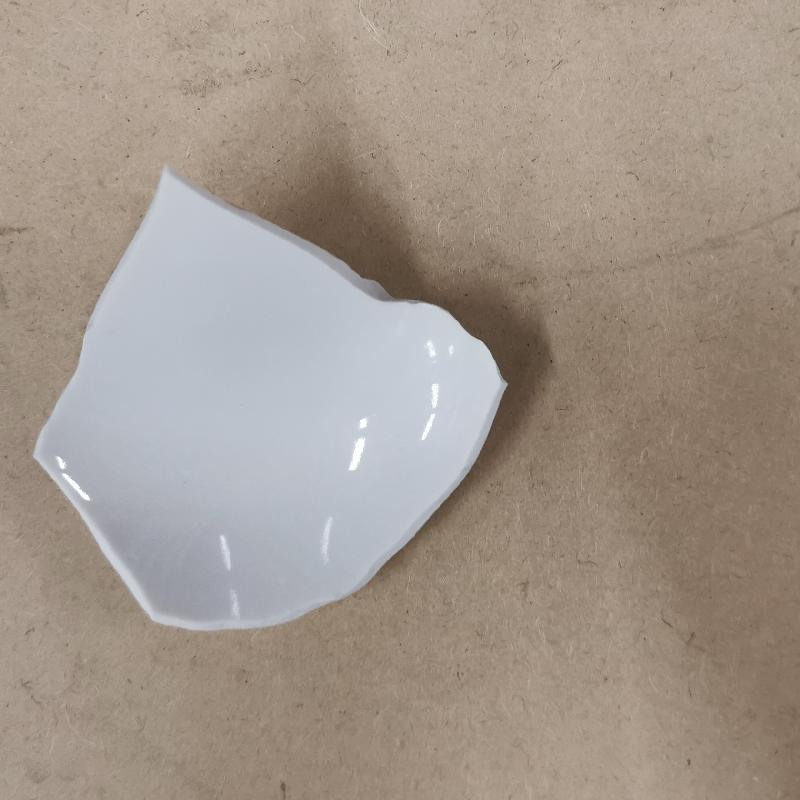ceram: (25, 159, 511, 632)
